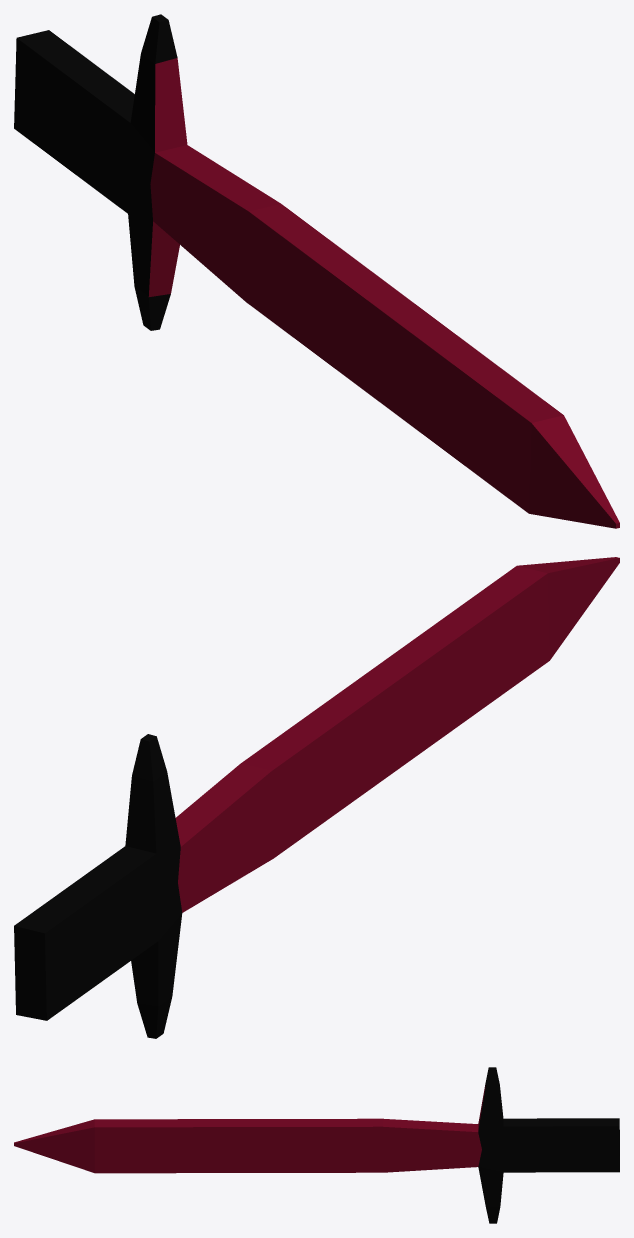
File: sword.fbx
The picture shows the model from 3 angles, top to bottom: view 1: azimuth 30°, elevation 25°; view 2: azimuth 150°, elevation 25°; view 3: azimuth 270°, elevation 25°; orthographic projection. The views are drawn at different scales.
Visible parts, largest first — view 1: Cube; view 2: Cube; view 3: Cube.
Boxes of the visible parts, x1,y1,x2,y2 form: Cube: (14,14,619,528); Cube: (14,557,619,1038); Cube: (14,1067,619,1223).
Bounding box in the file's own units: 12.65 × 95.44 × 336.
